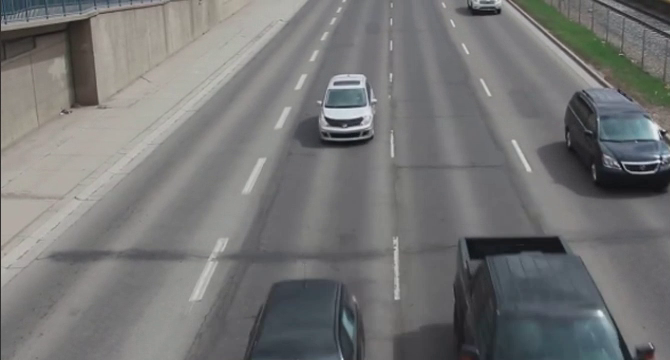car: (445, 233, 649, 360), (560, 82, 670, 194), (243, 278, 372, 360), (314, 67, 381, 149), (469, 1, 507, 14)
